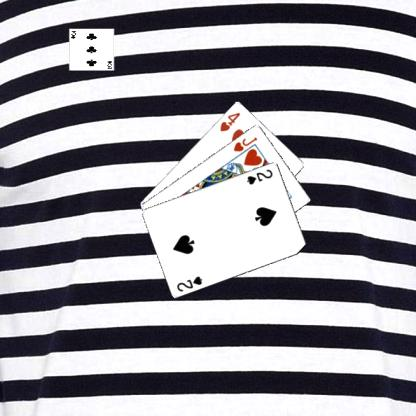2S: (244, 166, 274, 186), (174, 273, 204, 292)
4H: (217, 109, 242, 133)
JH: (231, 134, 258, 153)
